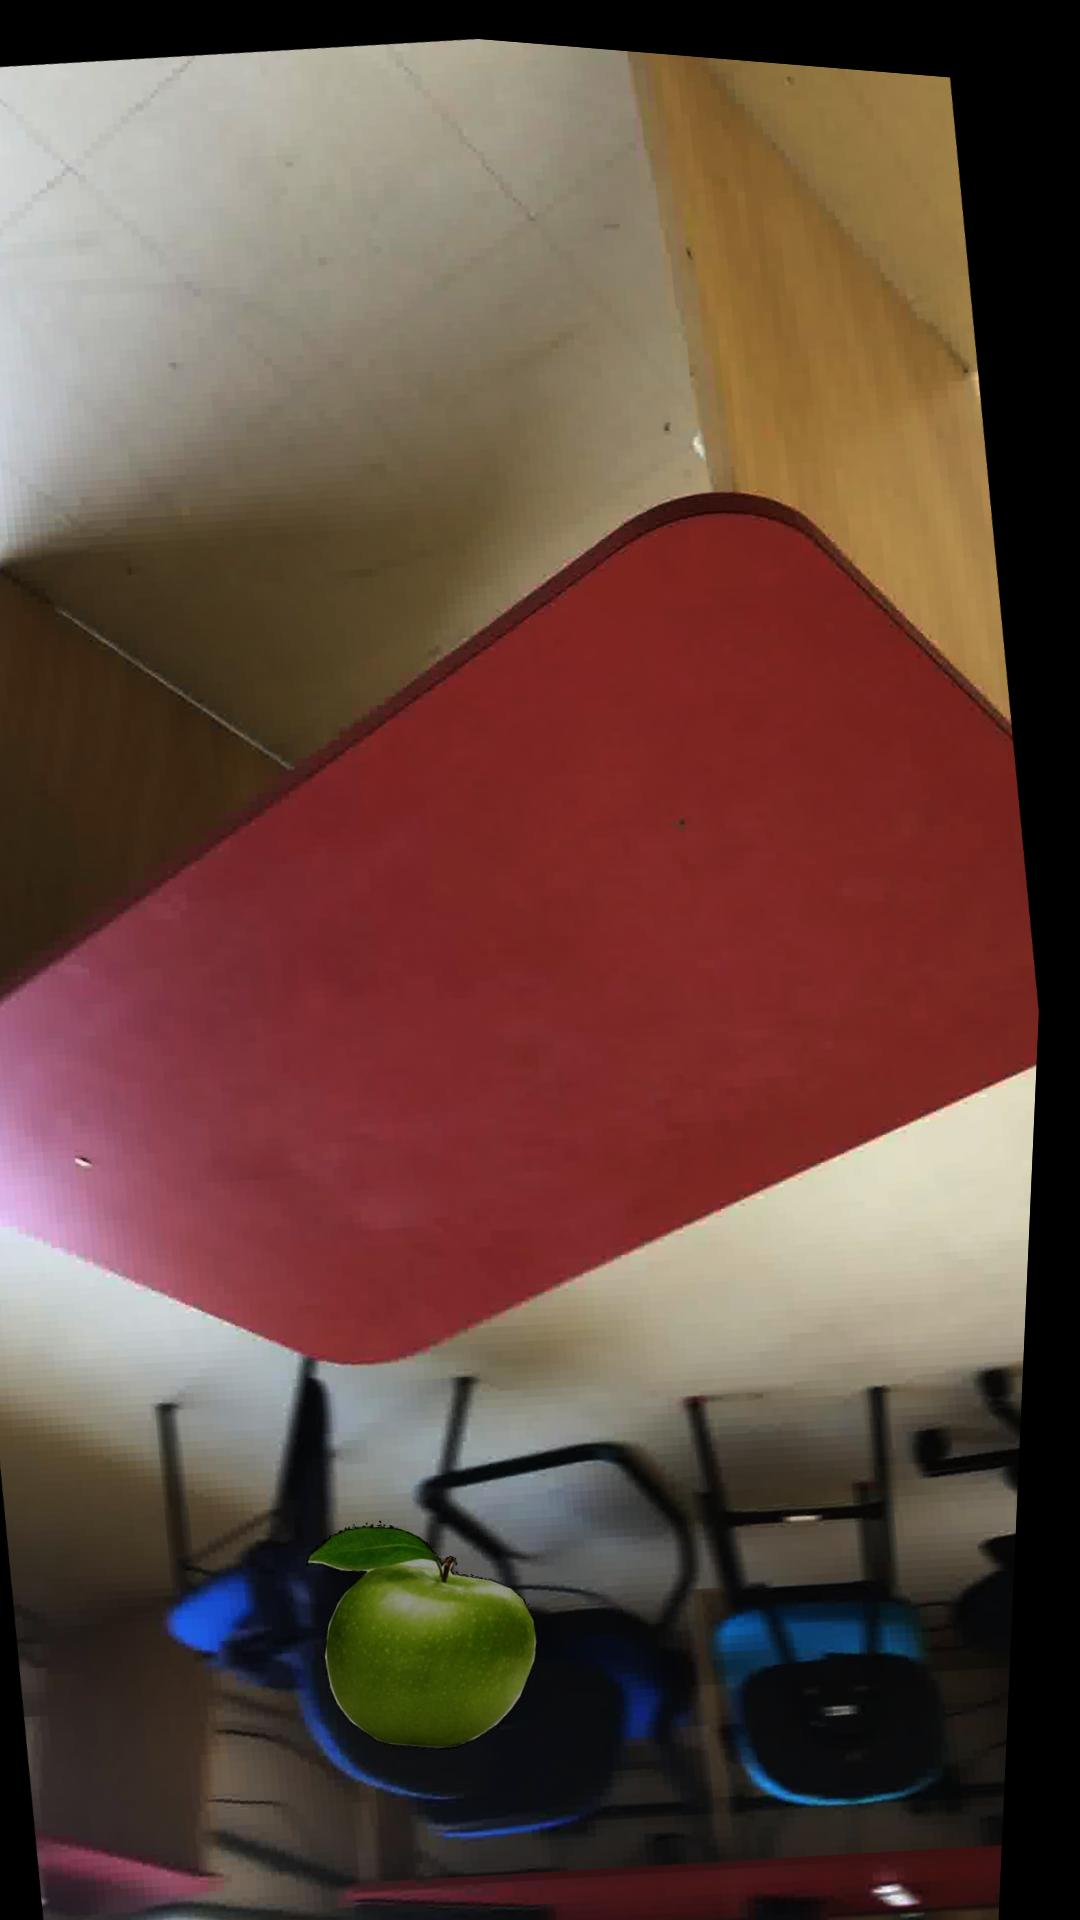green apple: (323, 1518, 555, 1741)
